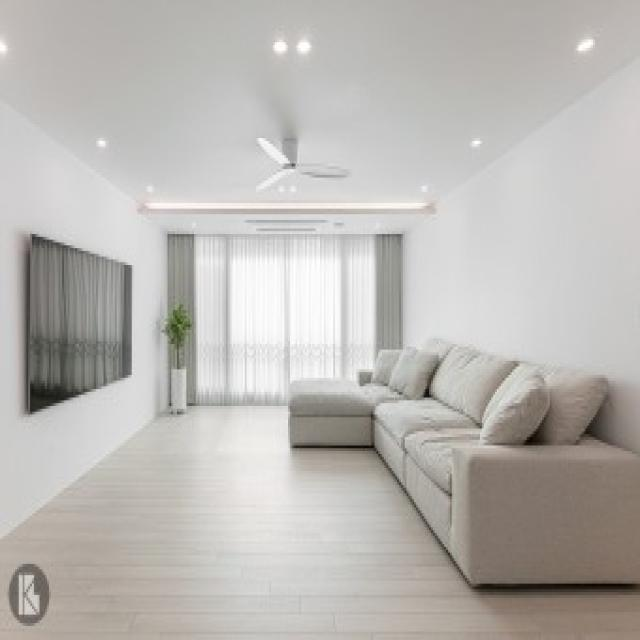Sofa: (282, 336, 640, 586)
tv: (28, 229, 134, 421)
